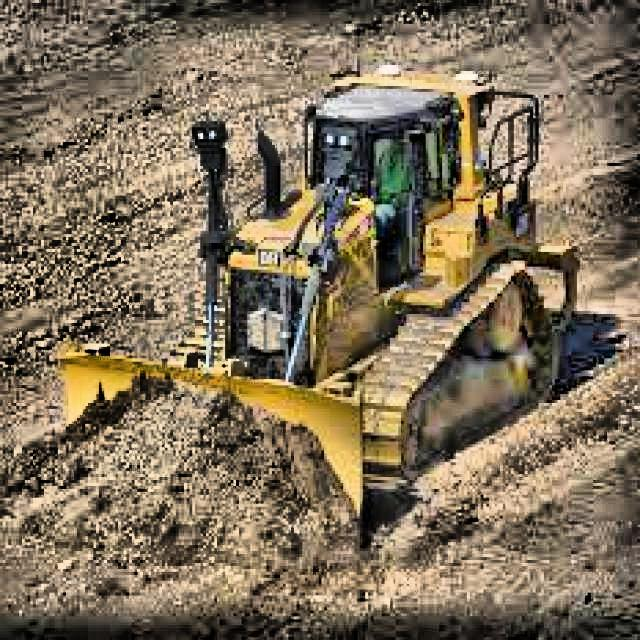bull_dozer/loader/grader: (59, 59, 583, 550)
person: (377, 134, 420, 238)
